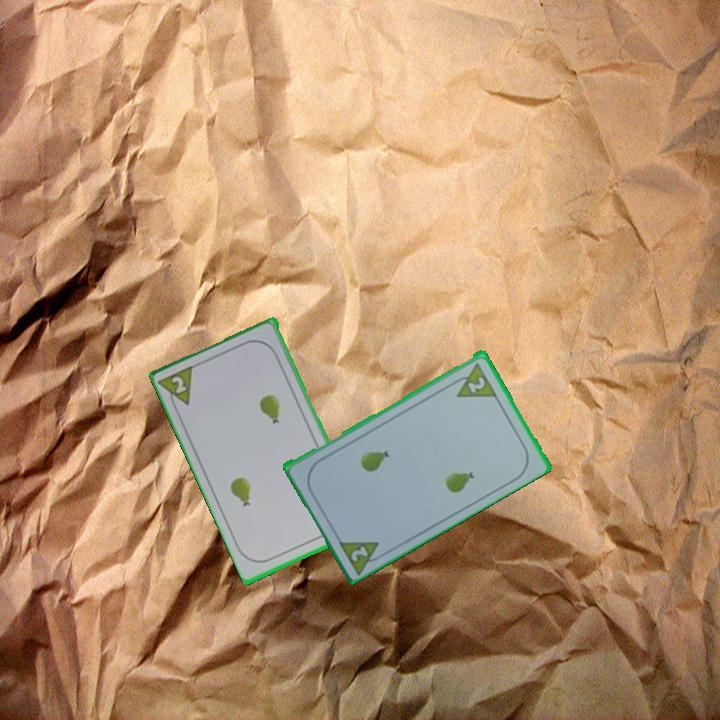2p: (156, 361, 199, 414), (464, 373, 489, 396), (347, 542, 371, 564)
